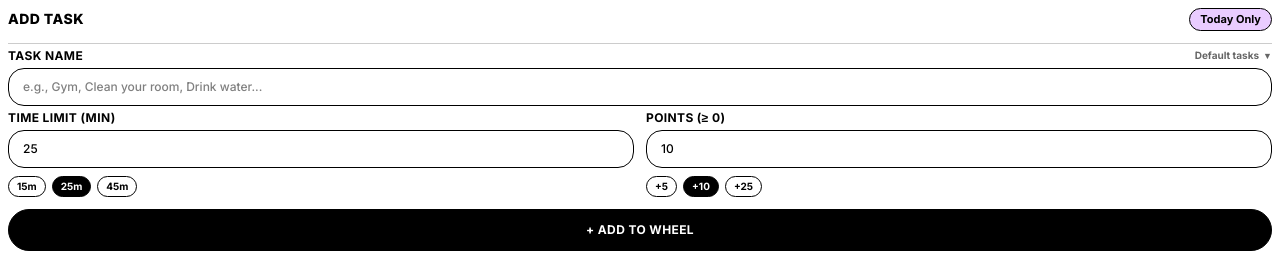
Test: components/TaskForm (spec) › successfully calls addTask and clears name input on valid submission
The image size is (1280, 268).
Type "Write specification" into the field labelled "Task Name" at (640, 86), box [8, 68, 1272, 106]
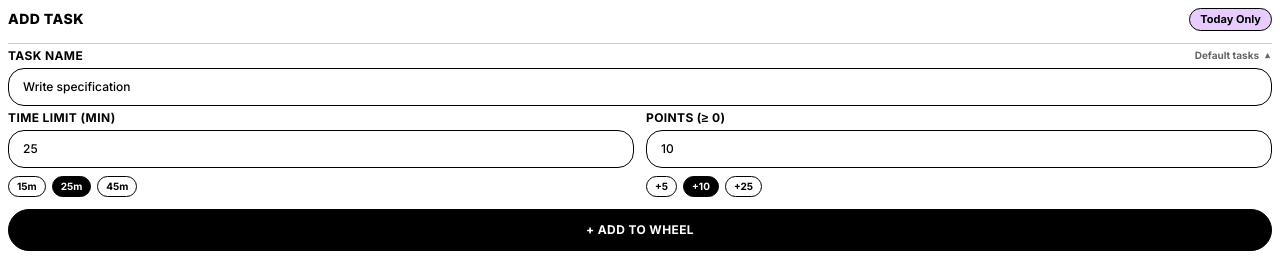
Click the button "+ Add to Wheel" at (640, 230), box [8, 208, 1272, 250]
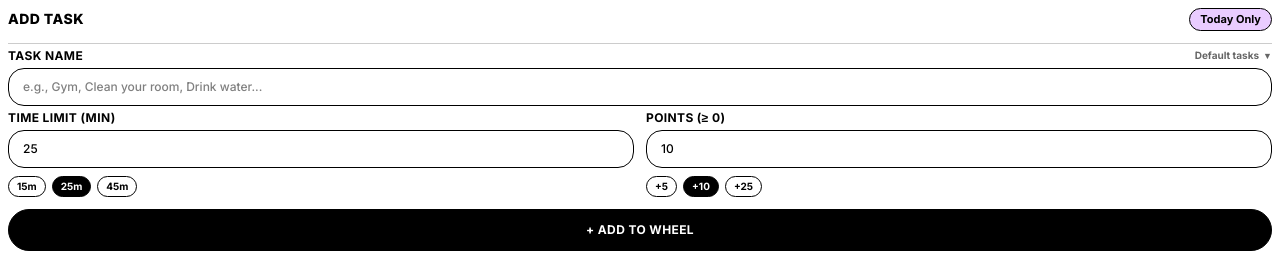
Expected: the field labelled "Task Name" is empty, [8, 68, 1272, 106]
